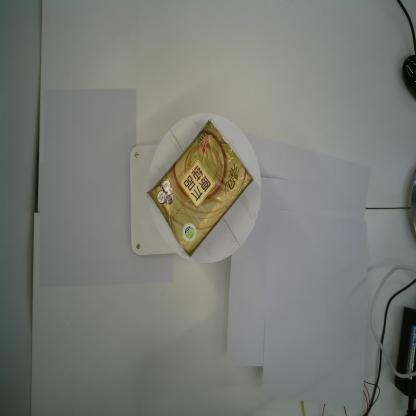Tissue: (146, 116, 255, 258)
